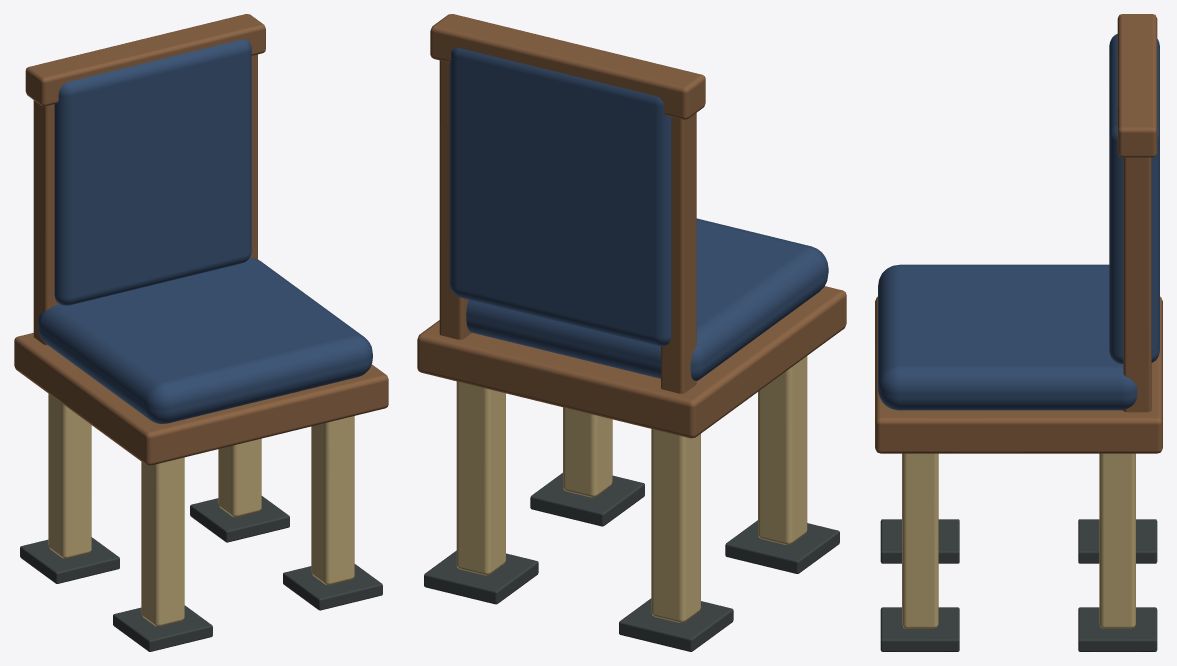
The model's file is city-courthouse-and-records-office-city-courthouse-and-2e74743f__30961.glb.
3 renders of one model, left to right at view 1: azimuth 30°, elevation 25°; view 2: azimuth 150°, elevation 25°; view 3: azimuth 270°, elevation 25°, orthographic. The views are drawn at different scales.
Visible parts, largest first — view 1: city-courthouse-and-records-office-witness-chair; view 2: city-courthouse-and-records-office-witness-chair; view 3: city-courthouse-and-records-office-witness-chair.
Part boxes in pixels (box(x1,y1,x2,y2)): city-courthouse-and-records-office-witness-chair: box(14, 14, 388, 651); city-courthouse-and-records-office-witness-chair: box(417, 14, 846, 651); city-courthouse-and-records-office-witness-chair: box(875, 14, 1162, 651).
Bounding box in the file's own units: 0.53 × 1.02 × 0.51.
